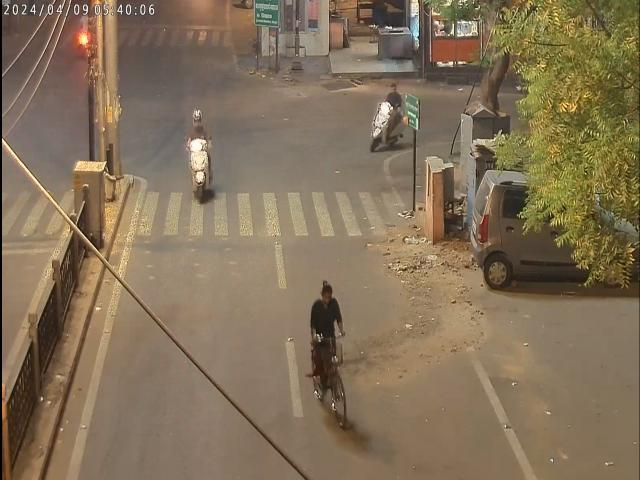bicycle: (300, 271, 360, 432)
car: (468, 166, 640, 289)
scooty: (360, 82, 412, 154), (180, 107, 217, 202)
